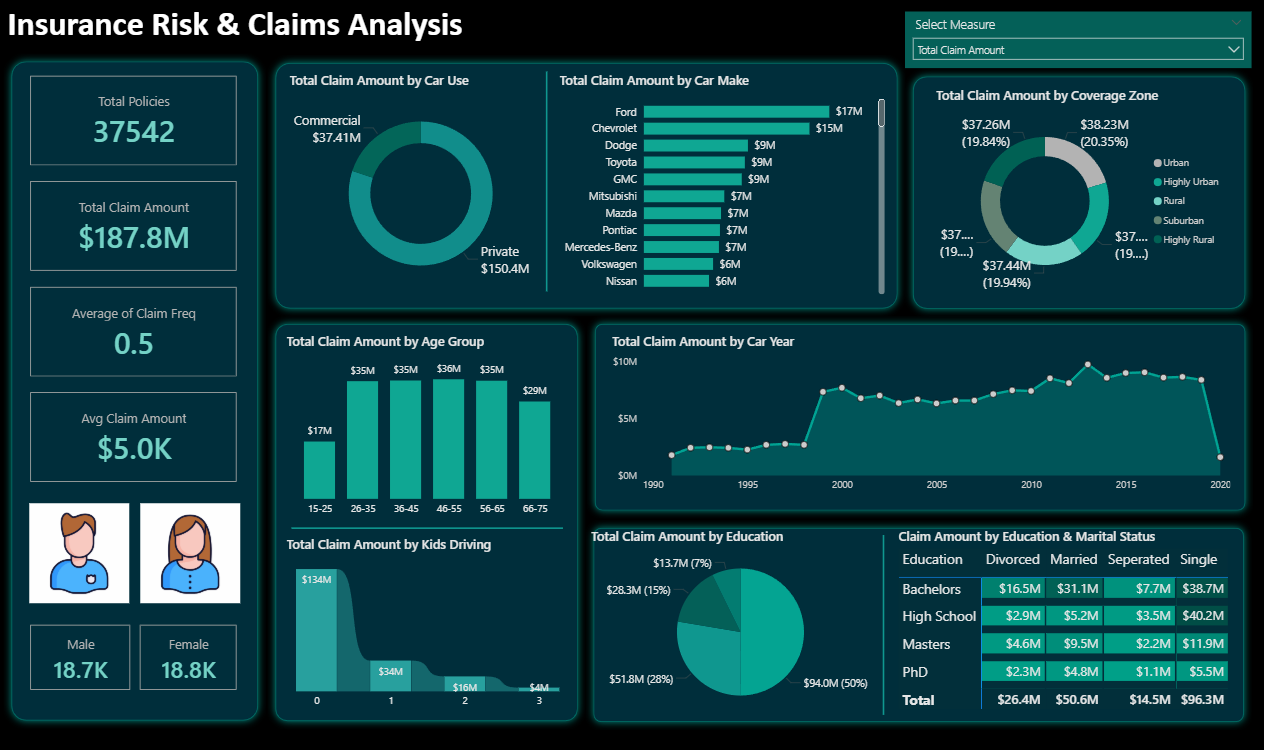

The dashboard page shown, as its layout file describes it:
{"tool":"powerbi","page":{"name":"Page 1","canvas":[1600,950],"ordinal":0},"visuals":[{"type":"textbox","box":[9.4,0,630.7,70.9],"z":0},{"type":"shape","box":[9.4,70.9,330.7,850.4],"z":1000},{"type":"cardVisual","fields":{"Data":["insurance_data_car.Total Policies","insurance_data_car.Total Claim Amount","Avg(insurance_data_car.Claim Freq)","insurance_data_car.Avg Claim Amount"]},"box":[37.8,92.3,270.7,459.6],"z":2000},{"type":"cardVisual","fields":{"Data":["insurance_data_car.Female Count"]},"box":[176.3,696.8,132.2,92.3],"z":3000},{"type":"cardVisual","fields":{"Data":["insurance_data_car.Male Count"]},"box":[37.8,696.8,136.4,92.3],"z":4000},{"type":"image","box":[176.3,560.4,138.5,136.4],"z":5000},{"type":"image","box":[37.8,560.4,138.5,136.4],"z":6000},{"type":"slicer","fields":{"Values":["Select Measure.Select Measure"]},"box":[1145.9,16.8,436.5,71.4],"z":7000},{"type":"shape","box":[342.1,71.4,803.8,329.5],"z":8000},{"type":"donutChart","fields":{"Y":["insurance_data_car.Total Policies"],"Category":["insurance_data_car.Car Use"]},"box":[365.2,92.3,340,285.4],"z":9000},{"type":"clusteredBarChart","fields":{"Y":["insurance_data_car.Total Policies"],"Category":["insurance_data_car.Car Make"]},"box":[705.2,92.3,419.7,285.4],"z":10000},{"type":"shape","box":[1145.9,88.1,438.6,312.7],"z":11000},{"type":"donutChart","fields":{"Y":["insurance_data_car.Total Policies"],"Category":["insurance_data_car.Coverage Zone"]},"box":[1179.5,111.2,375.7,266.5],"z":12000},{"type":"shape","box":[342.1,400.9,400.9,520.5],"z":13000},{"type":"clusteredColumnChart","fields":{"Y":["insurance_data_car.Total Policies"],"Category":["insurance_data_car.Age Group"]},"box":[361,421.8,365.2,239.3],"z":14000},{"type":"ribbonChart","fields":{"Y":["insurance_data_car.Total Policies"],"Category":["insurance_data_car.Kids Driving"]},"box":[361,675.8,365.2,226.7],"z":15000},{"type":"shape","box":[745,400.9,839.5,255],"z":16000},{"type":"areaChart","fields":{"Y":["insurance_data_car.Total Policies"],"Category":["insurance_data_car.Car Year"]},"box":[770.2,421.8,789.1,209.9],"z":17000},{"type":"shape","box":[742.9,656.9,839.5,264.4],"z":18000},{"type":"pieChart","fields":{"Y":["insurance_data_car.Total Policies"],"Category":["insurance_data_car.Education"]},"box":[745,667.4,386.2,241.4],"z":19000},{"type":"pivotTable","title":"Claim Amount by Education & Marital Status","fields":{"Rows":["insurance_data_car.Education"],"Columns":["insurance_data_car.Marital Status"],"Values":["insurance_data_car.Total Claim Amount"]},"box":[1131.2,667.4,428.1,235.1],"z":20000},{"type":"shape","box":[682.1,92.3,23.1,277],"z":21000},{"type":"shape","box":[1106,675.8,25.2,226.7],"z":22000},{"type":"shape","box":[371.5,659,342.1,16.8],"z":23000}]}

Visuals, with their boxes in screenshot pixels (x1, y1, x2, y2), scaled from the page's 1600x950 canvas onto the 1264x750 screenshot:
textbox: Rect(7, 0, 506, 56)
shape: Rect(7, 56, 269, 727)
cardVisual - insurance_data_car.Total Policies x insurance_data_car.Total Claim Amount: Rect(30, 73, 244, 436)
cardVisual - insurance_data_car.Female Count: Rect(139, 550, 244, 623)
cardVisual - insurance_data_car.Male Count: Rect(30, 550, 138, 623)
image: Rect(139, 442, 249, 550)
image: Rect(30, 442, 139, 550)
slicer - Select Measure.Select Measure: Rect(905, 13, 1250, 70)
shape: Rect(270, 56, 905, 316)
donutChart - insurance_data_car.Total Policies x insurance_data_car.Car Use: Rect(289, 73, 557, 298)
clusteredBarChart - insurance_data_car.Total Policies x insurance_data_car.Car Make: Rect(557, 73, 889, 298)
shape: Rect(905, 70, 1252, 316)
donutChart - insurance_data_car.Total Policies x insurance_data_car.Coverage Zone: Rect(932, 88, 1229, 298)
shape: Rect(270, 316, 587, 727)
clusteredColumnChart - insurance_data_car.Total Policies x insurance_data_car.Age Group: Rect(285, 333, 574, 522)
ribbonChart - insurance_data_car.Total Policies x insurance_data_car.Kids Driving: Rect(285, 534, 574, 712)
shape: Rect(589, 316, 1252, 518)
areaChart - insurance_data_car.Total Policies x insurance_data_car.Car Year: Rect(608, 333, 1232, 499)
shape: Rect(587, 519, 1250, 727)
pieChart - insurance_data_car.Total Policies x insurance_data_car.Education: Rect(589, 527, 894, 717)
"Claim Amount by Education & Marital Status" pivotTable: Rect(894, 527, 1232, 712)
shape: Rect(539, 73, 557, 292)
shape: Rect(874, 534, 894, 712)
shape: Rect(293, 520, 564, 534)
